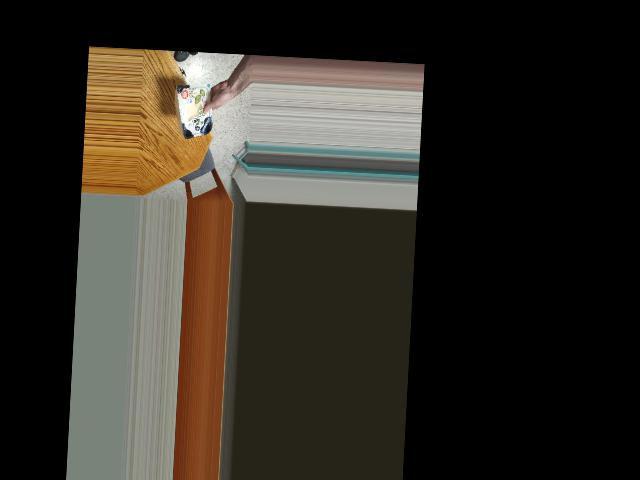cheese: (180, 79, 217, 141)
